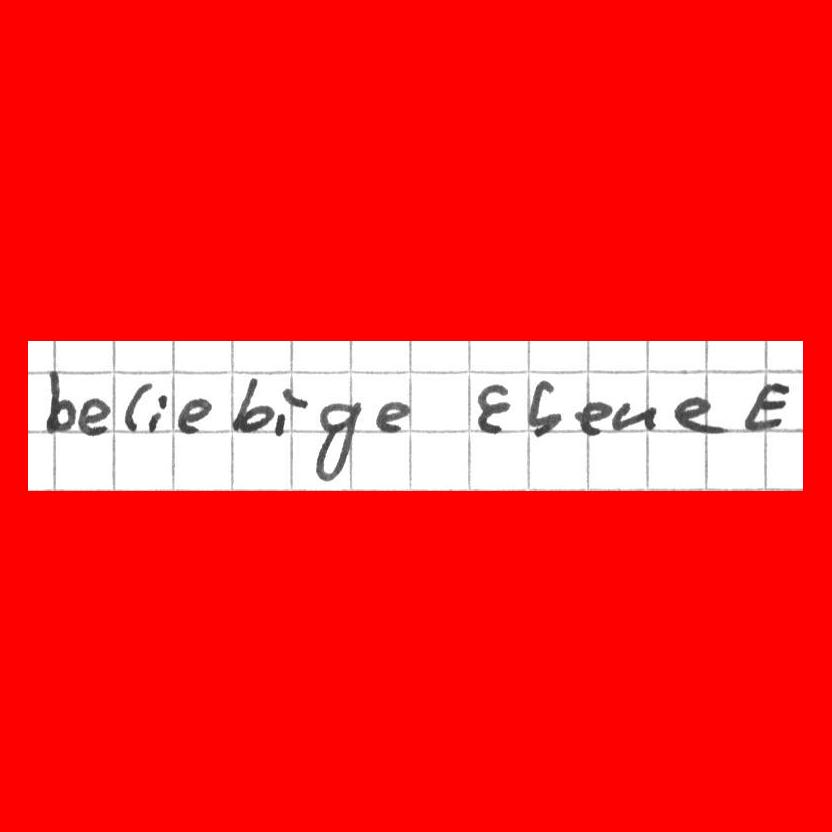Char: (312, 401, 361, 482), (740, 379, 789, 435), (231, 378, 275, 435), (524, 378, 565, 436), (42, 368, 76, 436), (672, 393, 723, 434), (475, 380, 512, 436), (610, 399, 660, 434), (174, 396, 213, 434), (123, 381, 150, 435), (372, 398, 409, 437), (78, 394, 110, 439), (275, 388, 307, 432), (576, 400, 609, 437), (146, 393, 169, 434)
